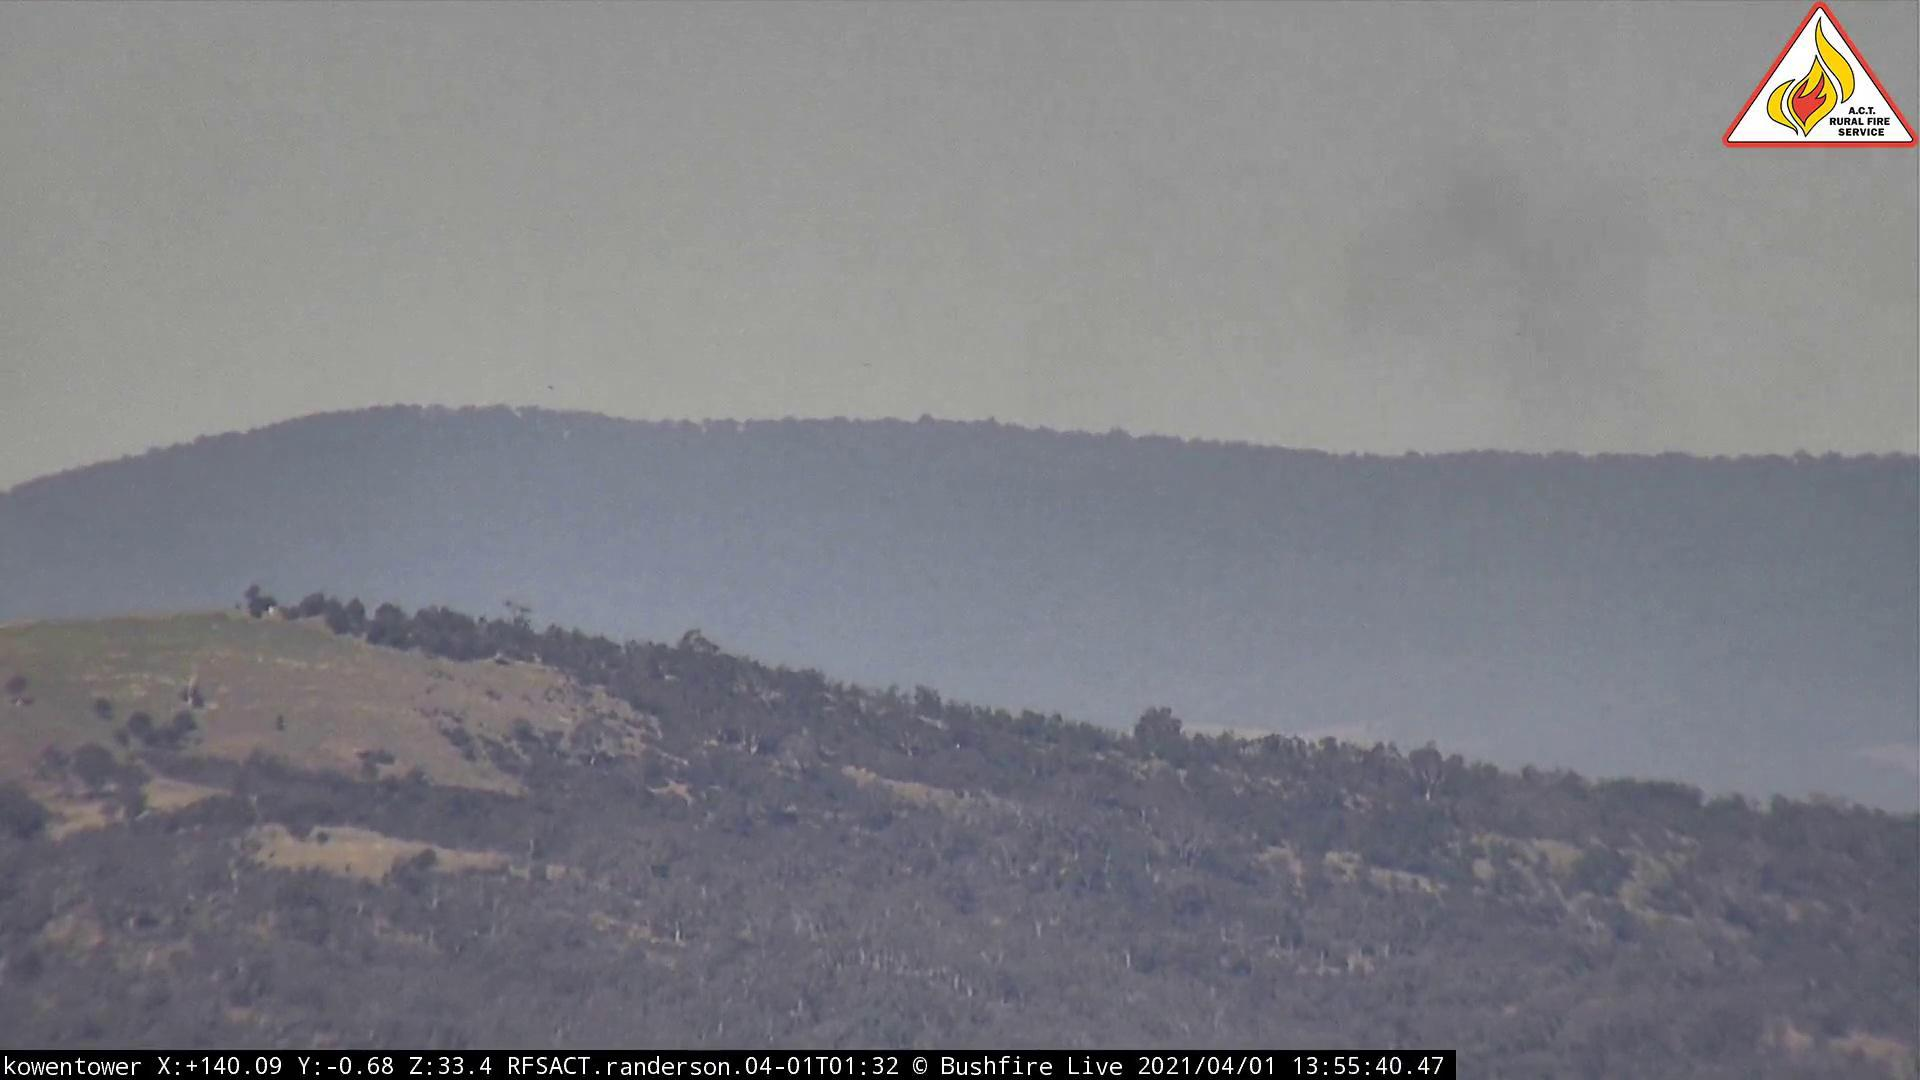instance_salient_object: (1298, 98, 1710, 496)
